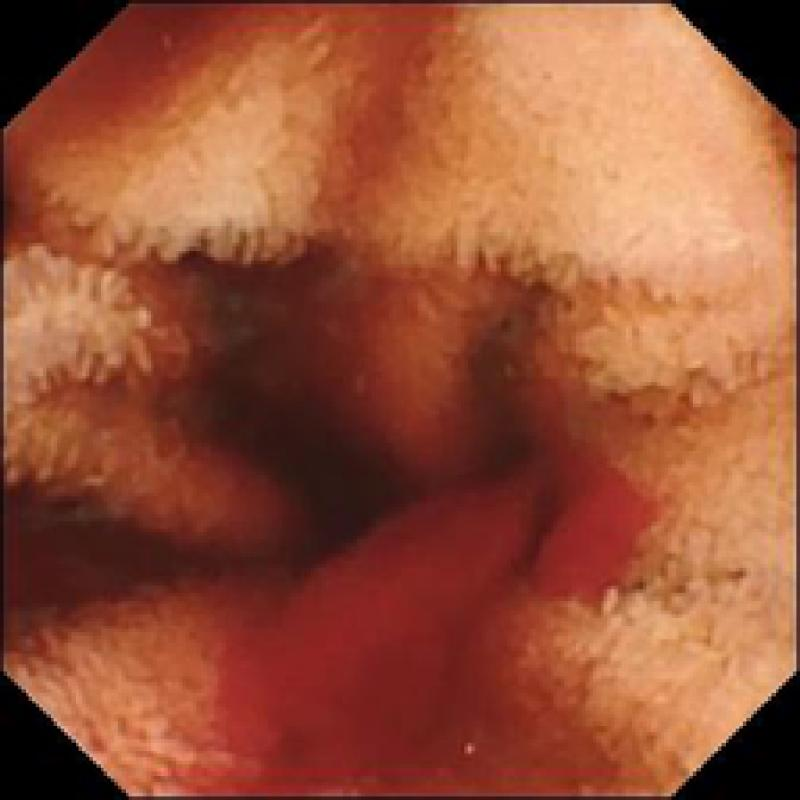bleeding: (221, 443, 636, 800)
